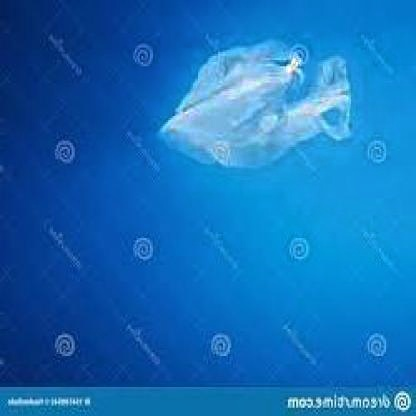pbag: (155, 39, 353, 172)
